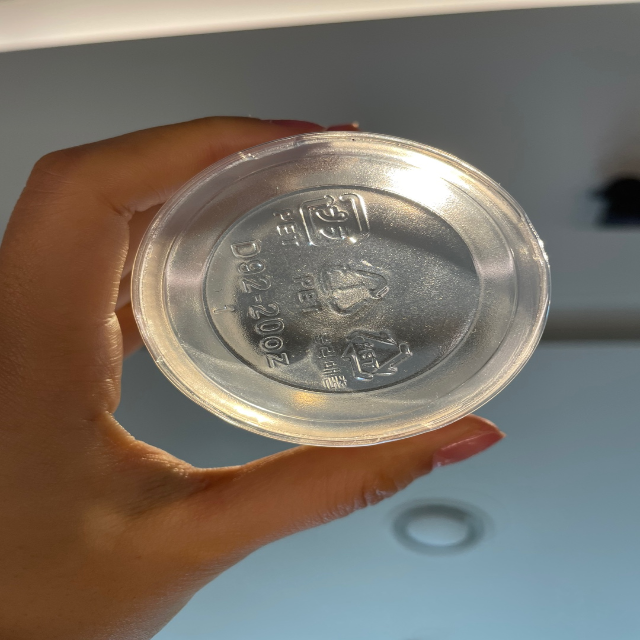pet: (311, 323, 419, 398), (289, 259, 397, 328), (270, 186, 373, 256)
